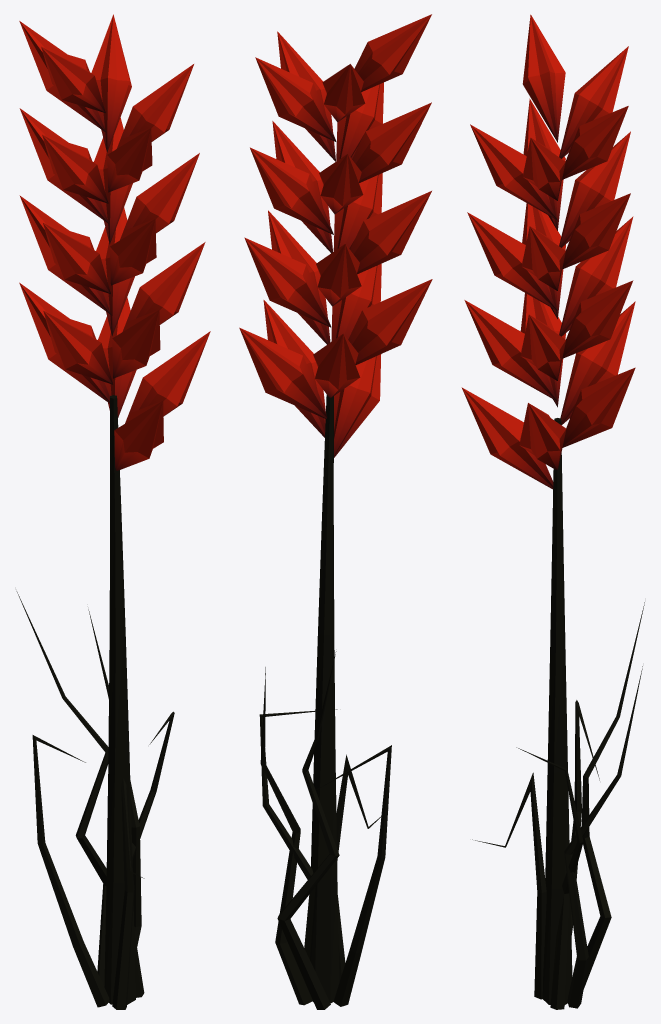
Rendered from Plant-S-1.fbx.
3 views of the same model, side by side, from view 1: azimuth 30°, elevation 25°; view 2: azimuth 150°, elevation 25°; view 3: azimuth 270°, elevation 25° (orthographic). The views are drawn at different scales.
Visible parts, largest first — view 1: OUT-Plant; view 2: OUT-Plant; view 3: OUT-Plant.
Part boxes in pixels (x1,y1,x2,y2): OUT-Plant: [16, 14, 210, 1009]; OUT-Plant: [239, 14, 432, 1009]; OUT-Plant: [461, 14, 644, 1009].
Bounding box in the file's own units: 0.0759 × 0.4256 × 0.0756.
